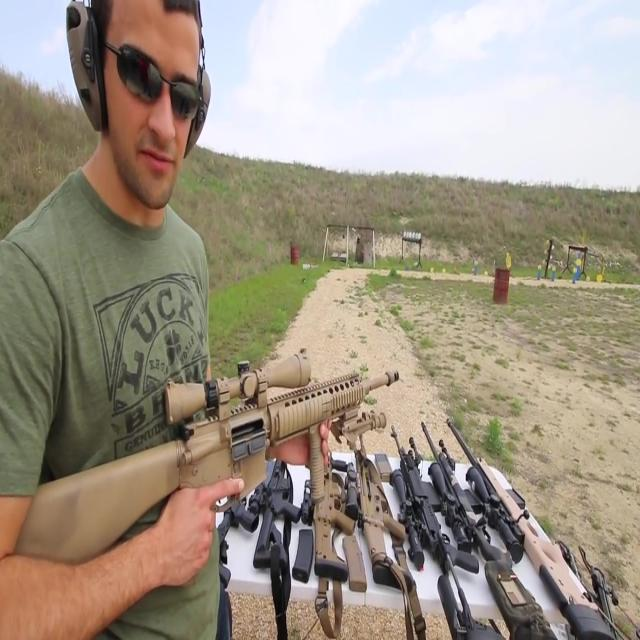Weapon: (141, 352, 621, 640), (0, 321, 425, 632)
